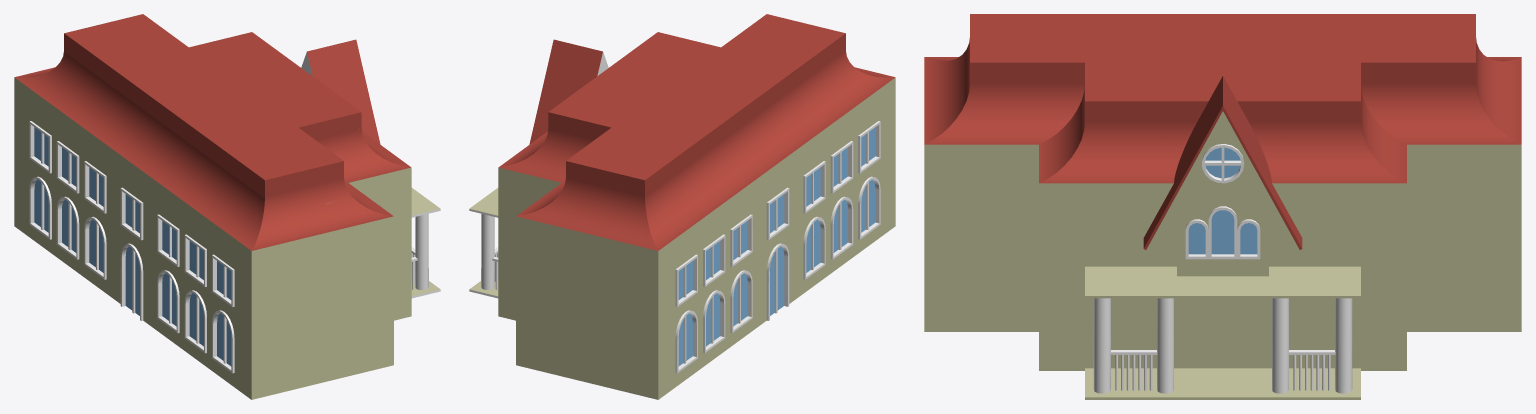
Rendered from mansion 1.fbx.
The picture shows the model from 3 angles, left to right: view 1: azimuth 30°, elevation 25°; view 2: azimuth 150°, elevation 25°; view 3: azimuth 270°, elevation 25°; orthographic projection. The views are drawn at different scales.
Visible parts, largest first — view 1: mansion:Solid1; view 2: mansion:Solid1; view 3: mansion:Solid1.
Part boxes in pixels (<box>): mansion:Solid1: <box>14,14,440,399</box>; mansion:Solid1: <box>469,14,895,399</box>; mansion:Solid1: <box>924,14,1521,399</box>.
Bounding box in the file's own units: 16.12 × 13.24 × 26.
Materials: 1 (1 with a texture image).
